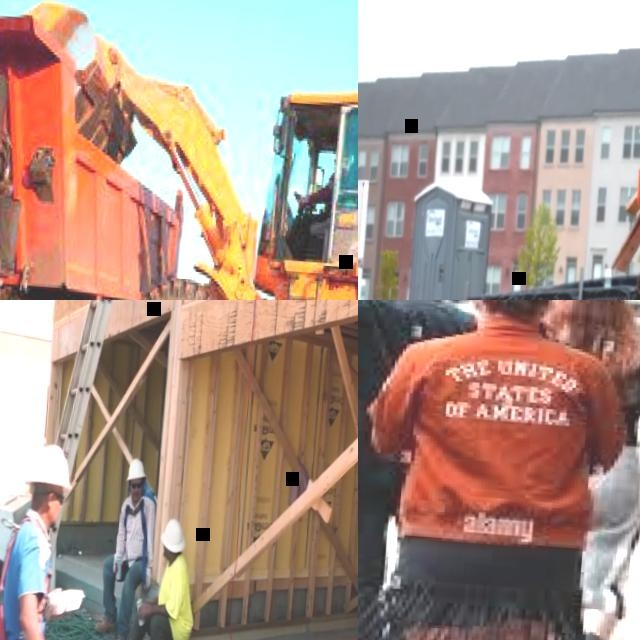Hardhat: (25, 438, 76, 490), (162, 513, 187, 553), (126, 457, 147, 482)
NO-Hardhat: (562, 300, 629, 324)
NO-Mask: (47, 500, 61, 520), (130, 490, 144, 504), (162, 548, 170, 557)
NO-Safety Vest: (388, 324, 606, 537), (358, 300, 458, 476), (557, 334, 640, 441), (0, 514, 50, 640), (157, 557, 192, 626), (118, 498, 152, 563), (323, 169, 338, 213)
Person: (358, 300, 637, 640), (509, 300, 640, 640), (358, 300, 489, 640), (0, 439, 91, 640), (103, 510, 202, 640), (94, 454, 161, 640), (287, 149, 353, 264)
machinery: (0, 0, 358, 300), (0, 0, 197, 300)
